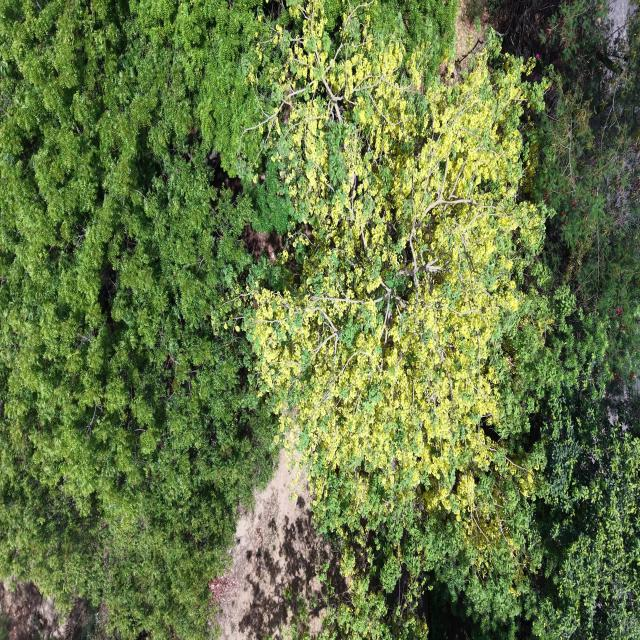DRY_AREA: (210, 452, 336, 639), (210, 452, 335, 639), (210, 452, 333, 639), (210, 452, 330, 639), (449, 0, 548, 79), (0, 582, 93, 639), (440, 0, 489, 81), (455, 0, 488, 65), (609, 0, 638, 38)
VEGETATION_TREE: (0, 0, 639, 639), (246, 3, 638, 637), (245, 4, 563, 638), (0, 0, 301, 638), (0, 2, 273, 638), (504, 0, 639, 638), (526, 375, 639, 639)
